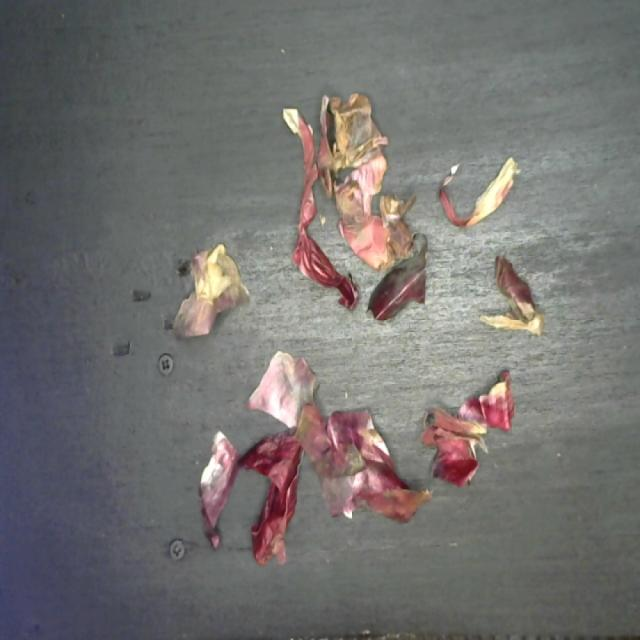biodegradable: (164, 90, 546, 554)
